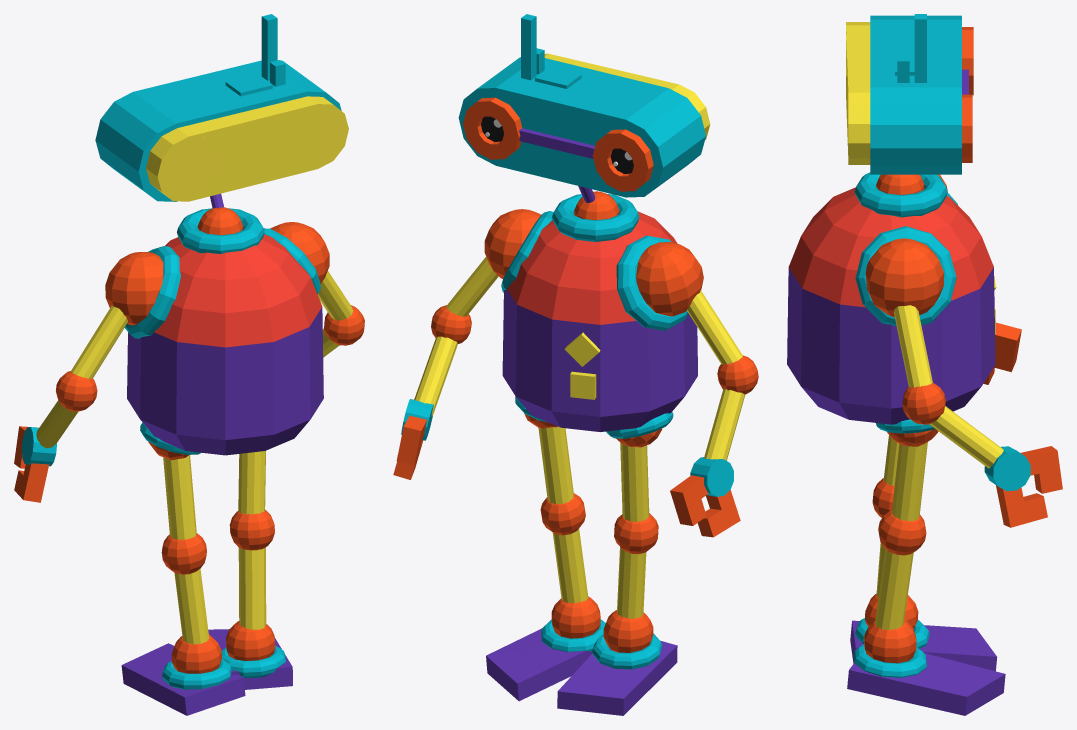
File: robot.fbx
3 views of the same model, side by side, from view 1: azimuth 30°, elevation 25°; view 2: azimuth 150°, elevation 25°; view 3: azimuth 270°, elevation 25° (orthographic). The views are drawn at different scales.
Visible parts, largest first — view 1: robot; view 2: robot; view 3: robot.
Part boxes in pixels (x1,y1,x2,y2): robot: (14,14,364,715); robot: (393,14,758,715); robot: (787,14,1062,715).
Bounding box in the file's own units: 0.961 × 1.86 × 0.6693.
